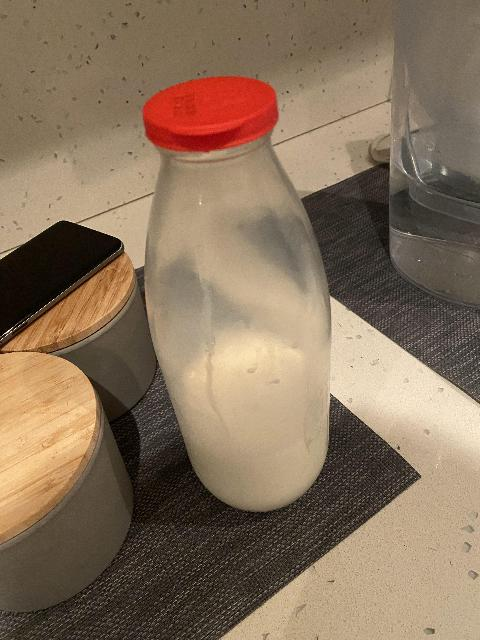Cam: (136, 155, 340, 515)
Plastik: (136, 75, 280, 150)
